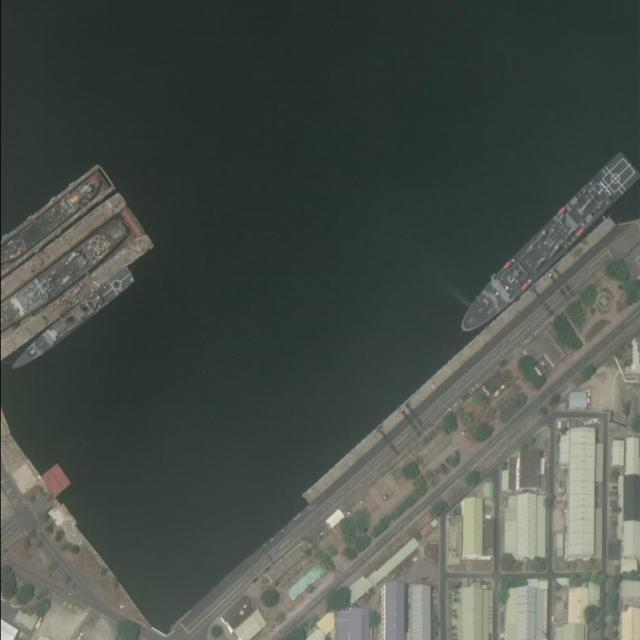Commander: (450, 158, 640, 339)
Destroyer: (8, 266, 138, 376)
